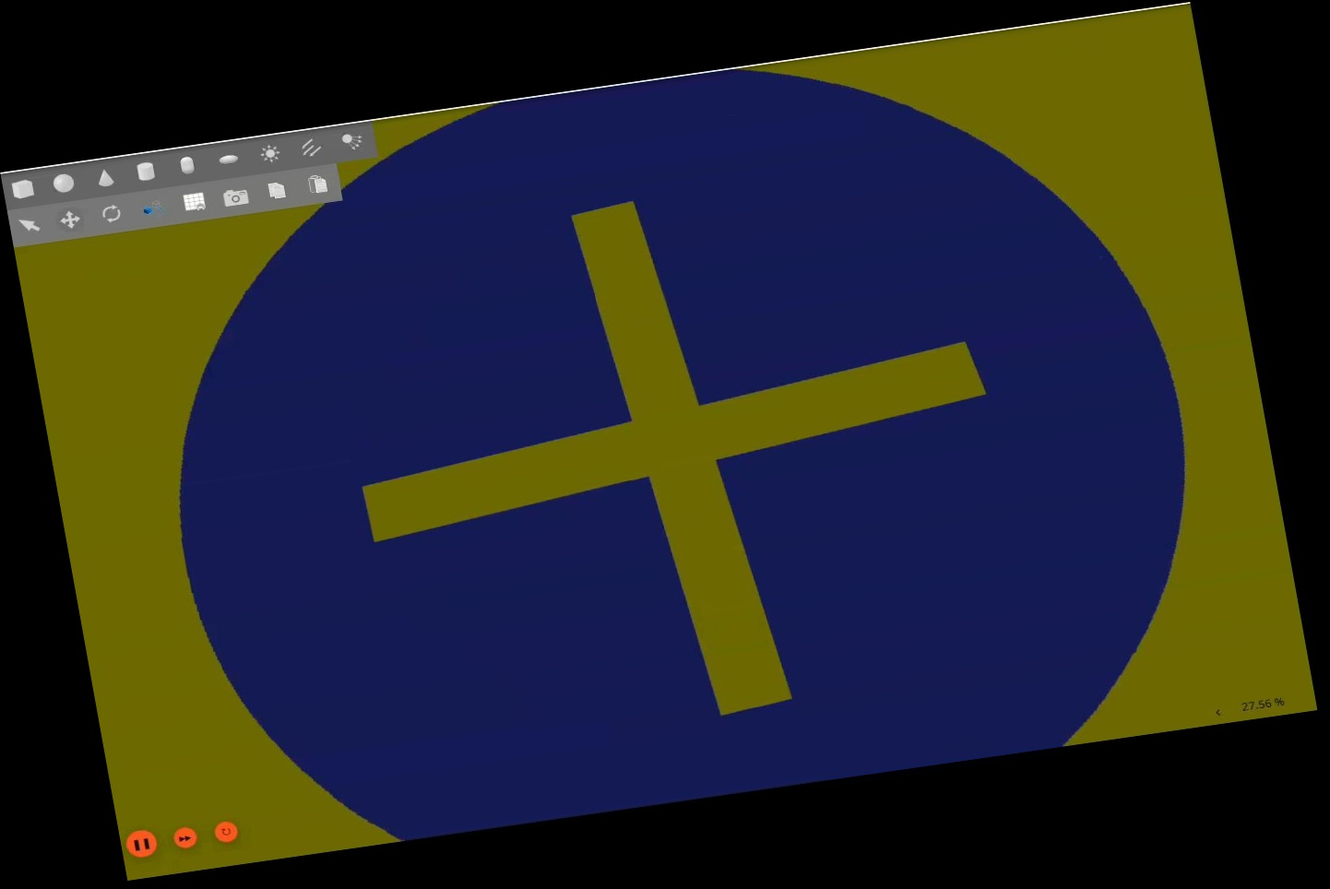large_base: (0, 2, 1314, 883)
